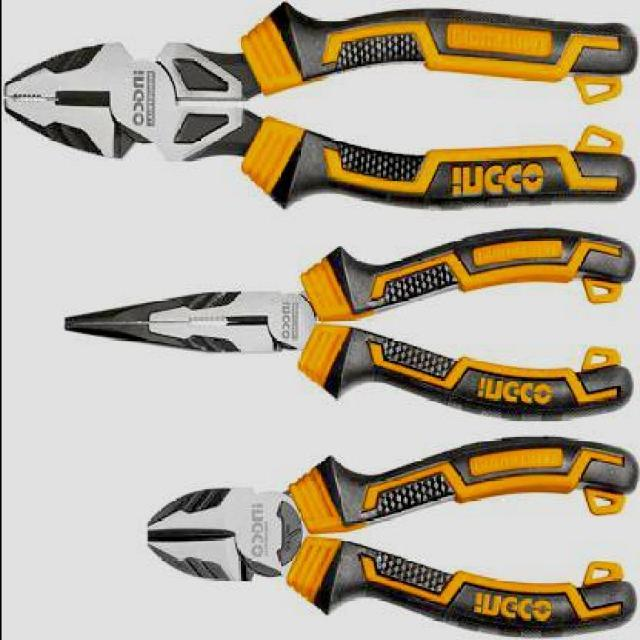pliers: (0, 0, 640, 215), (61, 218, 640, 426), (143, 436, 640, 638)
